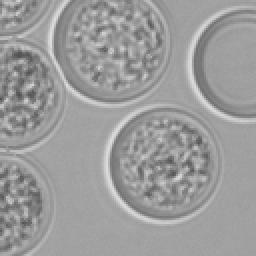picoshell: (102, 106, 222, 224), (50, 0, 170, 106), (186, 6, 254, 120), (0, 38, 66, 152), (0, 152, 54, 254)
